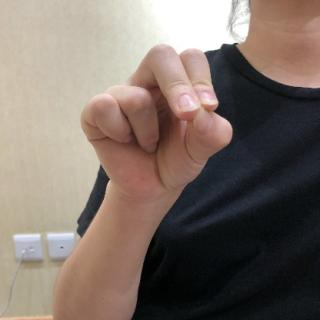QAAF: (72, 42, 239, 206)
